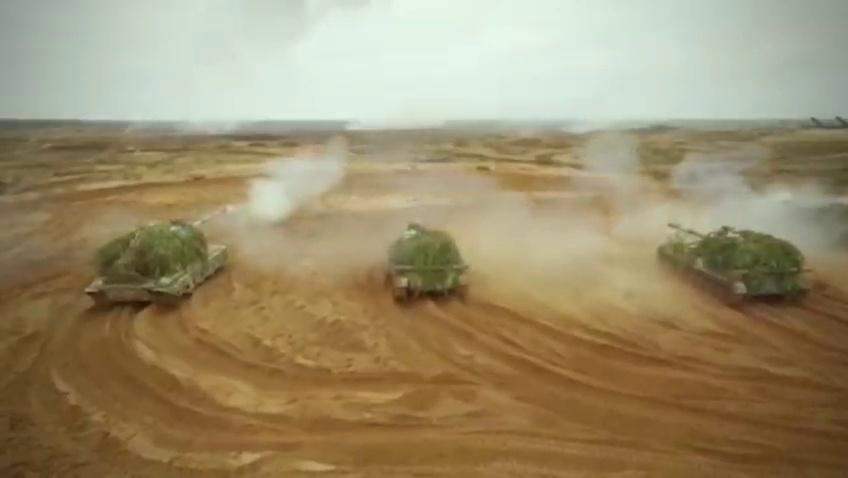sau: (88, 205, 232, 309), (660, 221, 818, 306), (387, 222, 470, 302)
